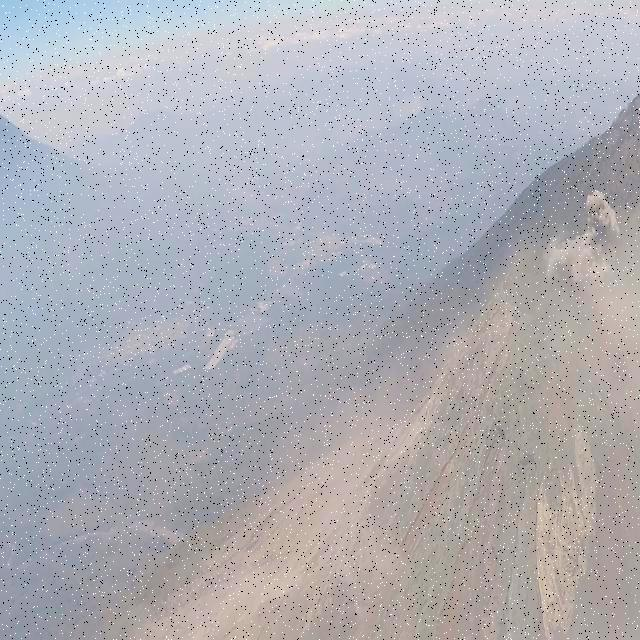Plume: (544, 186, 620, 289)
Summit: (97, 223, 640, 633)
